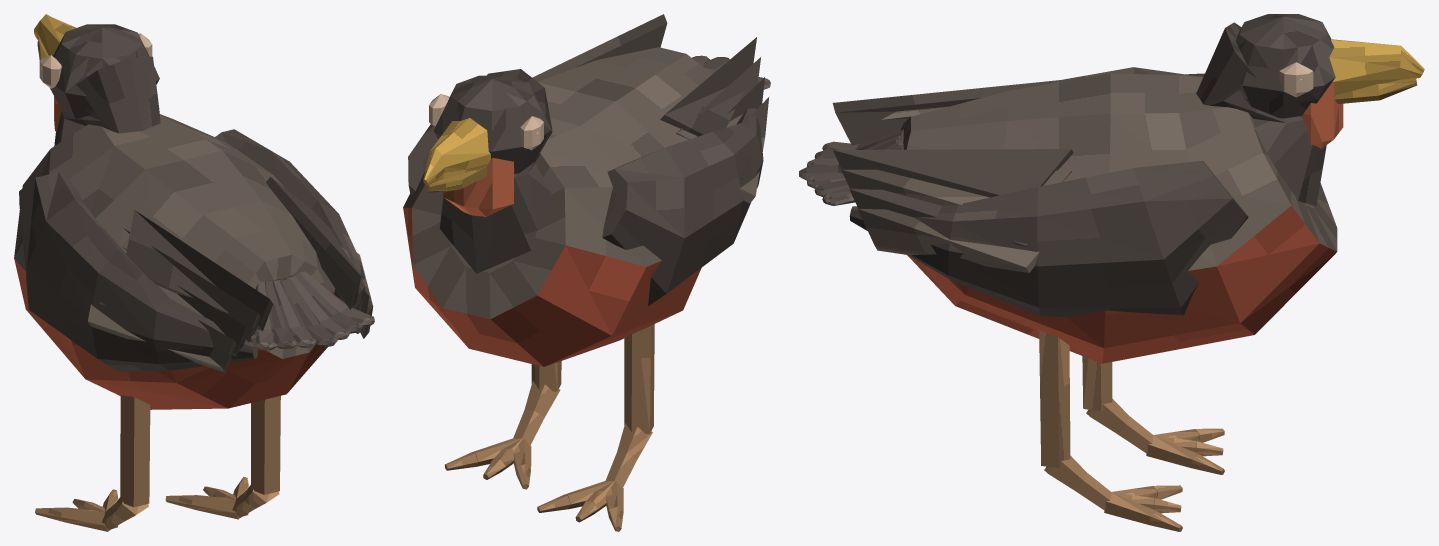
The model's file is mon_robin.glb.
3 views of the same model, side by side, from view 1: azimuth 30°, elevation 25°; view 2: azimuth 150°, elevation 25°; view 3: azimuth 270°, elevation 25° (orthographic). The views are drawn at different scales.
Parts seen in each view (by area): view 1: closed_body; view 2: closed_body; view 3: closed_body.
Part boxes in pixels (<box>): closed_body: <box>14,14,374,531</box>; closed_body: <box>403,14,770,531</box>; closed_body: <box>799,14,1424,531</box>.
Bounding box in the file's own units: 0.0718 × 0.1118 × 0.1355.
1 material, 1 textured.
